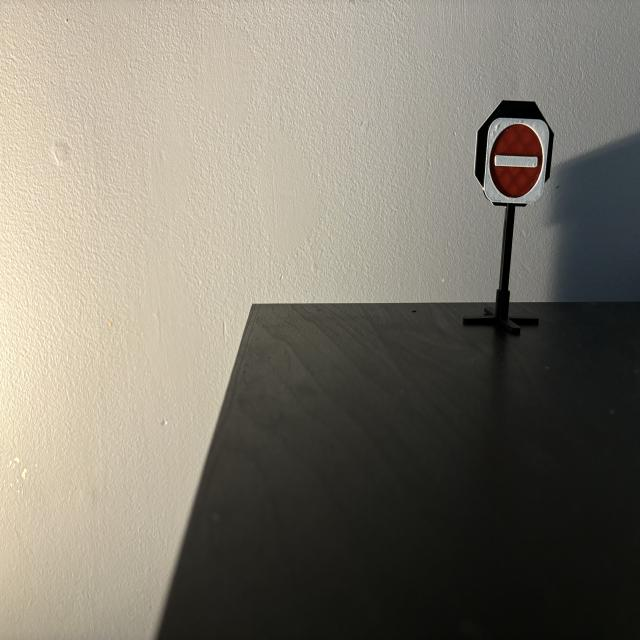sign_noentry: (486, 119, 550, 203)
